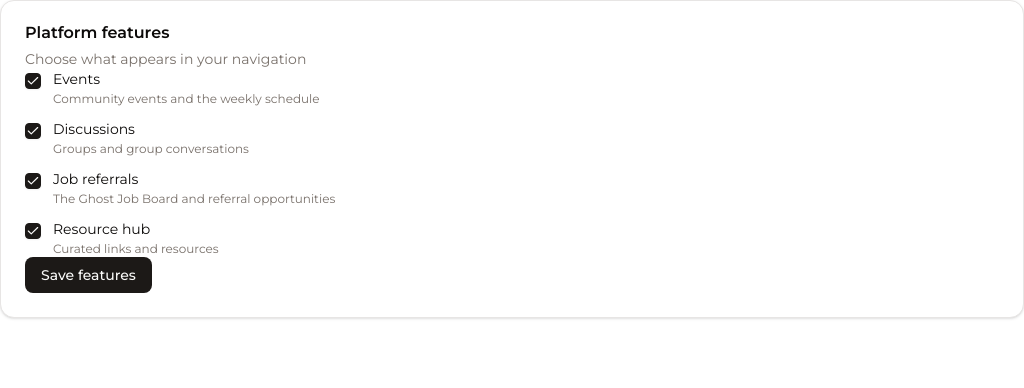
Test: FeaturePreferencesForm — editing feature preferences after onboarding › should save the edited selection and confirm success
Click the checkbox named "Resource hub" next to "Resource hub" at (33, 231), box [25,223,41,239]
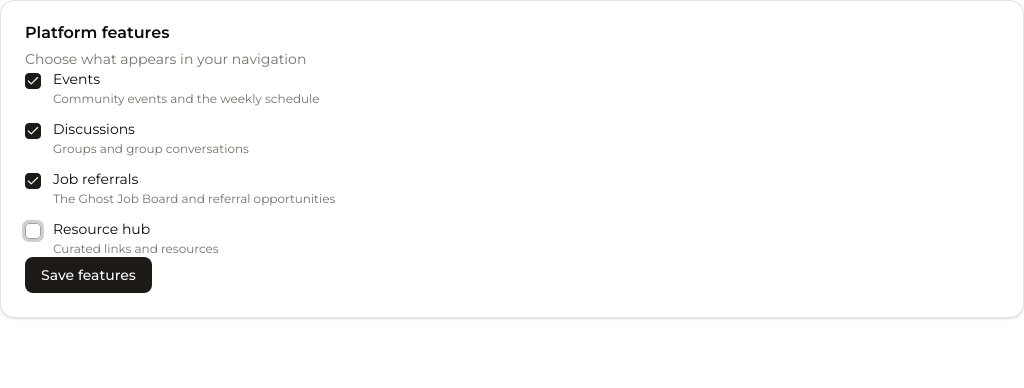
Click the button "Save features" at (88, 275), box [25,257,152,293]
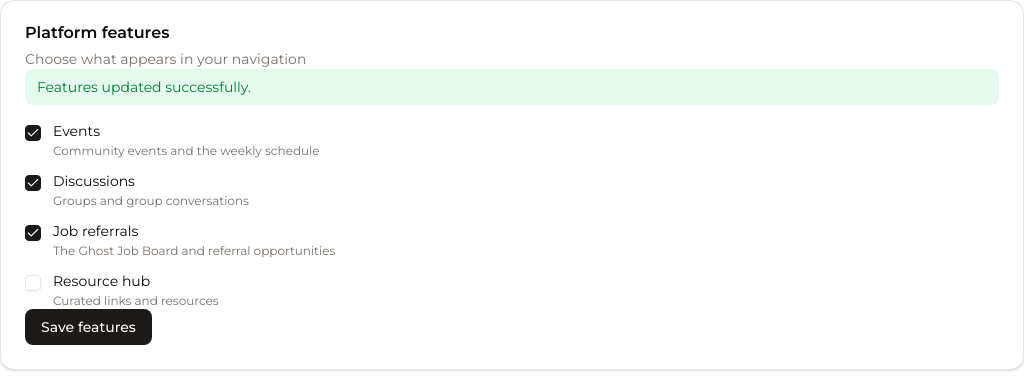
Expected: the text "Features updated successfully." is shown, [25,69,999,105]
